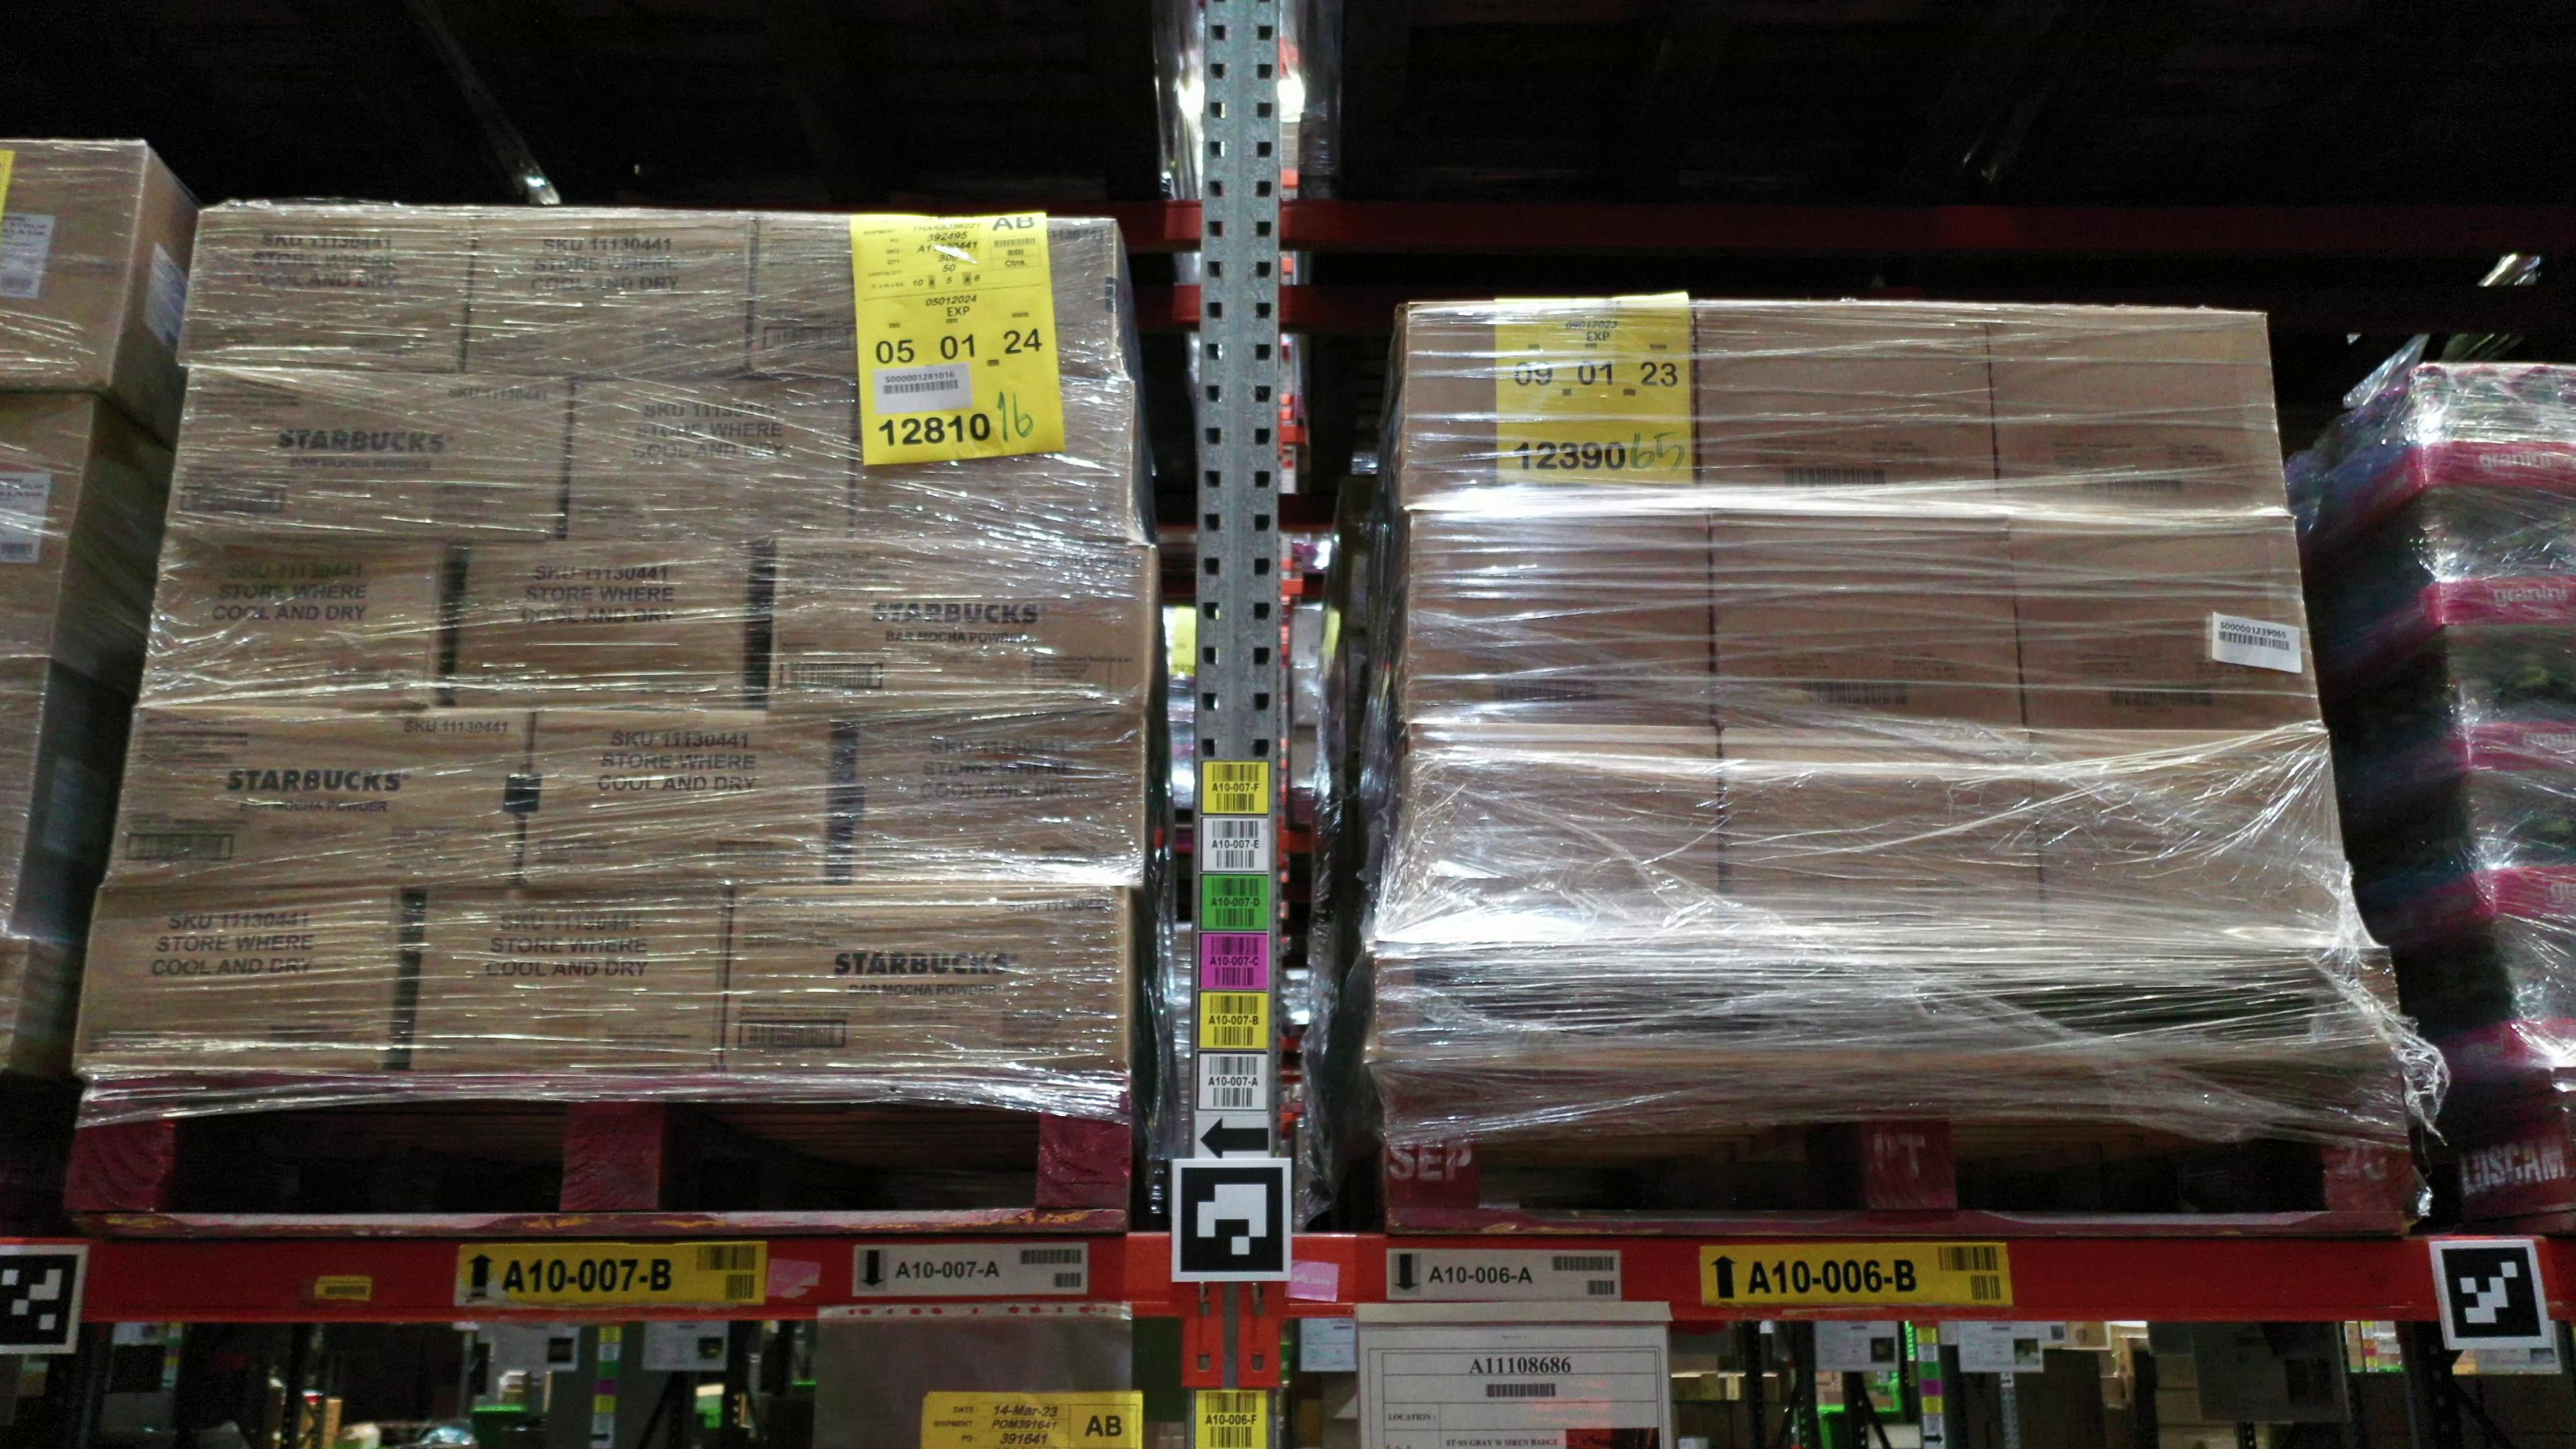-: (104, 702, 533, 892), (1700, 510, 2026, 748), (718, 888, 1129, 1074), (2013, 518, 2328, 743), (161, 372, 577, 541), (2033, 736, 2365, 948), (1721, 731, 2045, 947), (1408, 722, 1723, 941), (1401, 515, 1713, 731), (1697, 297, 1999, 515), (1990, 304, 2289, 520), (770, 545, 1152, 711), (748, 212, 1120, 382), (67, 888, 400, 1076), (1405, 303, 1702, 510), (409, 888, 731, 1076), (515, 706, 832, 888), (847, 709, 1145, 890), (143, 534, 441, 709), (456, 211, 763, 379), (451, 543, 755, 711), (175, 205, 481, 372), (559, 379, 858, 548), (842, 379, 1134, 548), (0, 136, 150, 396), (0, 387, 94, 663), (2413, 363, 2574, 497), (2424, 499, 2576, 635), (2443, 633, 2576, 778), (2463, 771, 2576, 932), (2502, 922, 2576, 1067)
